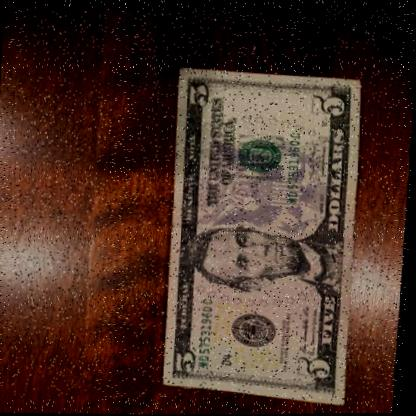dollar_front: (158, 58, 368, 401)
